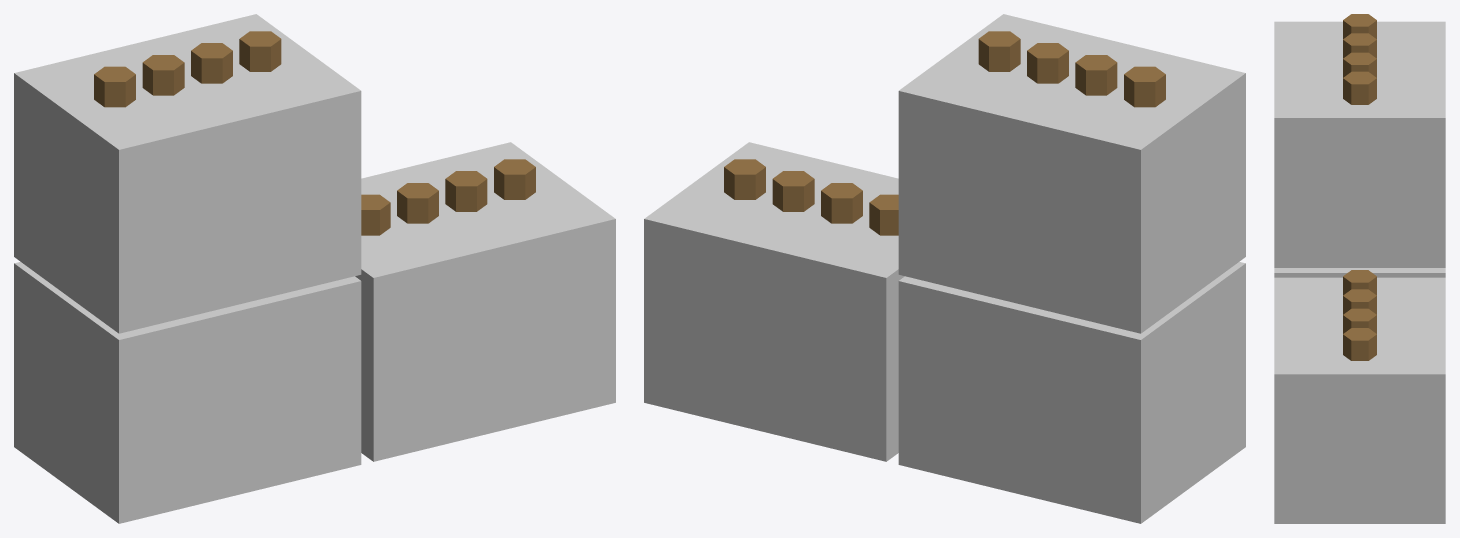
Rendered from beer_crates.glb.
3 renders of one model, left to right at view 1: azimuth 30°, elevation 25°; view 2: azimuth 150°, elevation 25°; view 3: azimuth 270°, elevation 25°, orthographic. The views are drawn at different scales.
Parts seen in each view (by area): view 1: beer_crates; view 2: beer_crates; view 3: beer_crates.
Part boxes in pixels (<box>): beer_crates: <box>14,14,615,523</box>; beer_crates: <box>644,14,1245,523</box>; beer_crates: <box>1274,14,1445,523</box>.
Size of the model in its own units: 0.82 by 0.63 by 0.3.
